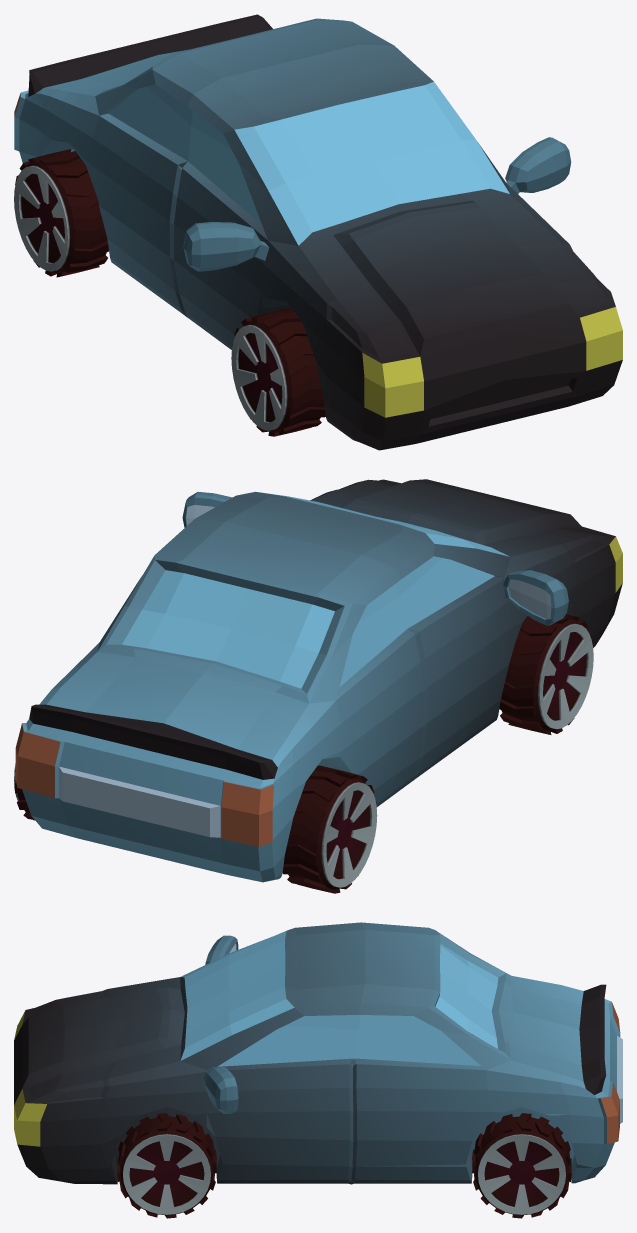
The model's file is машинка 2.fbx.
The picture shows the model from 3 angles, top to bottom: view 1: azimuth 30°, elevation 25°; view 2: azimuth 150°, elevation 25°; view 3: azimuth 270°, elevation 25°; orthographic projection. The views are drawn at different scales.
Visible parts, largest first — view 1: Car2, Cylinder.001, Cylinder, Zerk2; view 2: Car2, Cylinder.001, Cylinder, Zerk2; view 3: Car2, Cylinder.003, Cylinder.002, Zerk2.
Boxes of the visible parts, x1,y1,x2,y2 form: Car2: (14, 14, 622, 450); Cylinder.001: (14, 149, 108, 277); Cylinder: (231, 308, 325, 436); Zerk2: (183, 137, 571, 271); Car2: (15, 479, 622, 882); Cylinder.001: (282, 765, 377, 893); Cylinder: (499, 614, 593, 734); Zerk2: (182, 491, 568, 625); Car2: (14, 922, 622, 1184); Cylinder.003: (117, 1113, 216, 1218); Cylinder.002: (472, 1113, 571, 1218); Zerk2: (204, 935, 238, 1113).
Bounding box in the file's own units: 355 × 218 × 601.
